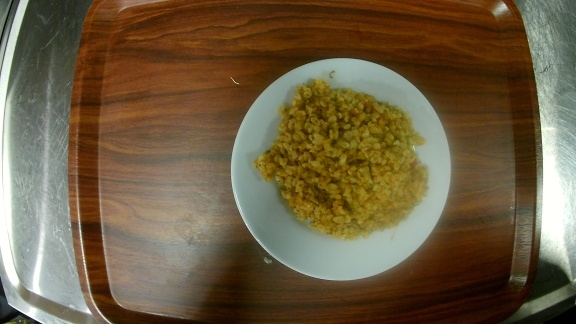bulgur: (230, 58, 453, 279)
